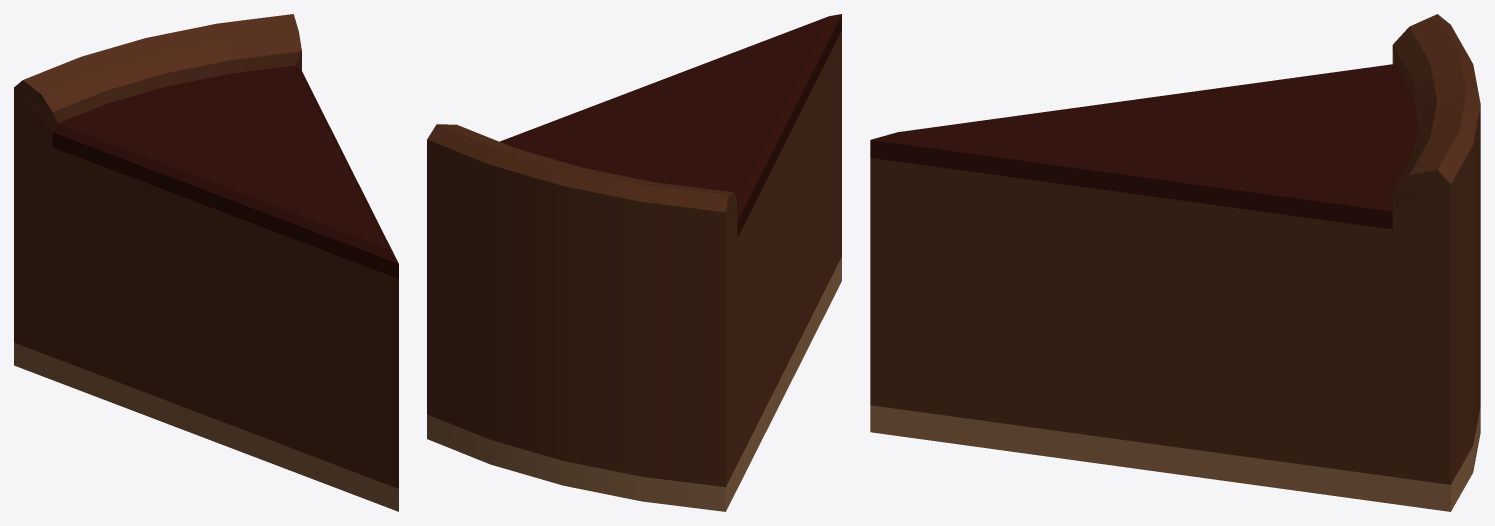
File: PW_cheesecake_chocolatte.fbx
3 views of the same model, side by side, from view 1: azimuth 30°, elevation 25°; view 2: azimuth 150°, elevation 25°; view 3: azimuth 270°, elevation 25° (orthographic). The views are drawn at different scales.
Parts seen in each view (by area): view 1: cheesecake_chocolatte; view 2: cheesecake_chocolatte; view 3: cheesecake_chocolatte.
Part boxes in pixels (<box>): cheesecake_chocolatte: <box>14,14,398,511</box>; cheesecake_chocolatte: <box>427,14,841,511</box>; cheesecake_chocolatte: <box>870,14,1480,511</box>.
Bounding box in the file's own units: 20.01 × 19.91 × 32.37.
Materials: 1 (1 with a texture image).
